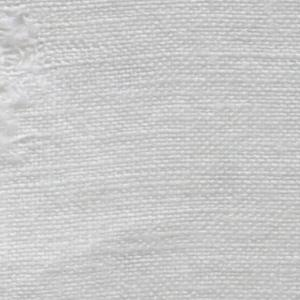Damage: (1, 1, 54, 88), (1, 110, 43, 180)
